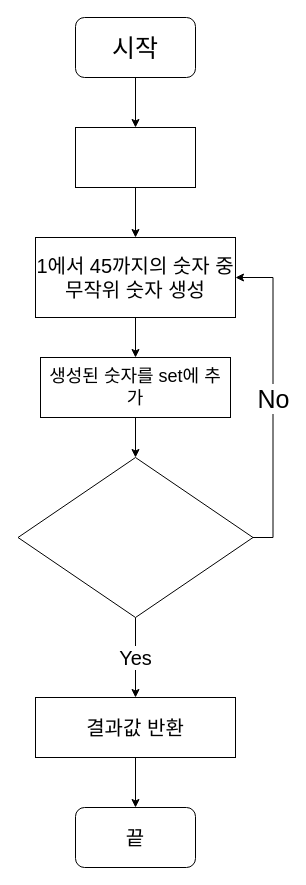
The diagram is 306 pixels wide and 885 high, and some of its shapes have lost their labels. The shapes that lost their labels are listed below. From the top down, each one's centre as x and y in pixels, then its label:
At pixel 135 157: "빈 set 생성".
At pixel 135 537: "set에 추가된 항목이 6개 이상인가?".
